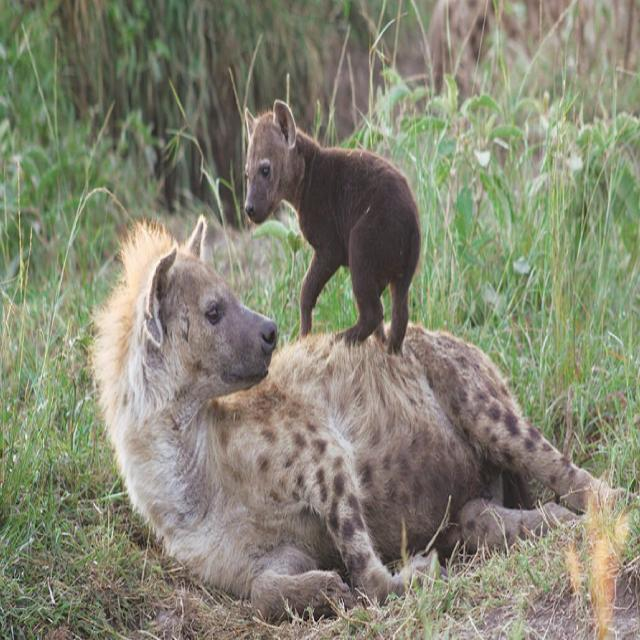Hyena: (90, 232, 595, 614), (241, 102, 422, 348)
